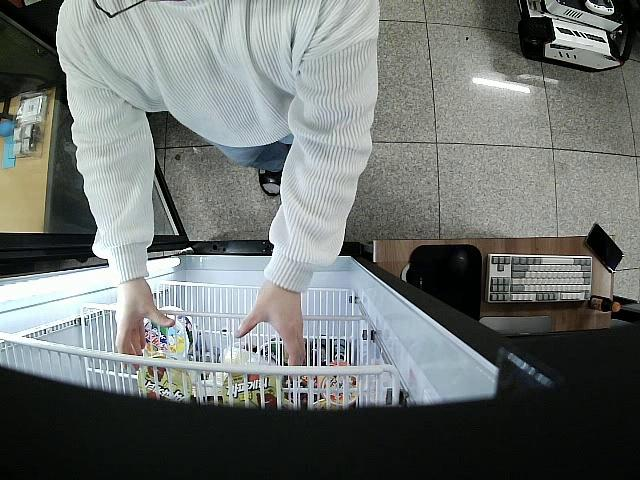00_hand: (233, 291, 305, 370), (115, 280, 175, 371)
